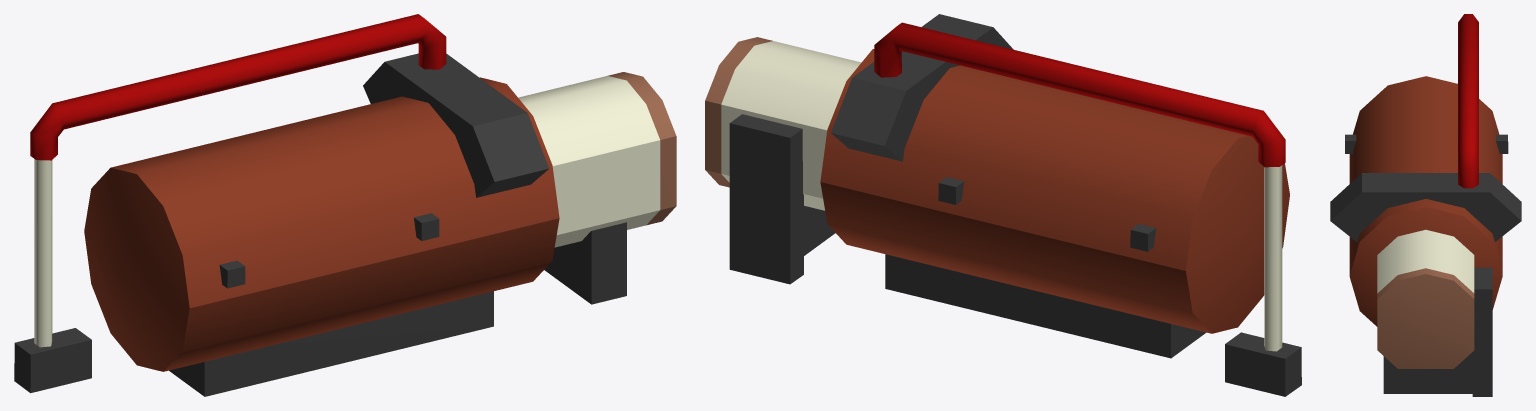
The model's file is generator1.fbx.
The picture shows the model from 3 angles, left to right: view 1: azimuth 30°, elevation 25°; view 2: azimuth 150°, elevation 25°; view 3: azimuth 270°, elevation 25°; orthographic projection. The views are drawn at different scales.
Visible parts, largest first — view 1: generator1; view 2: generator1; view 3: generator1.
Part boxes in pixels (bbox=[...]): generator1: bbox=[14, 14, 676, 396]; generator1: bbox=[705, 14, 1301, 396]; generator1: bbox=[1330, 14, 1521, 396].
Size of the model in its own units: 427 by 186 by 162.
